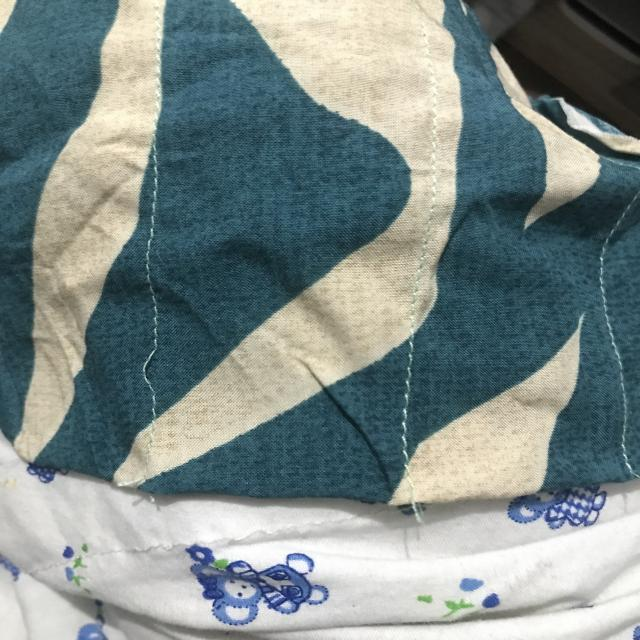good: (139, 236, 164, 303)
skip: (121, 332, 177, 400)
